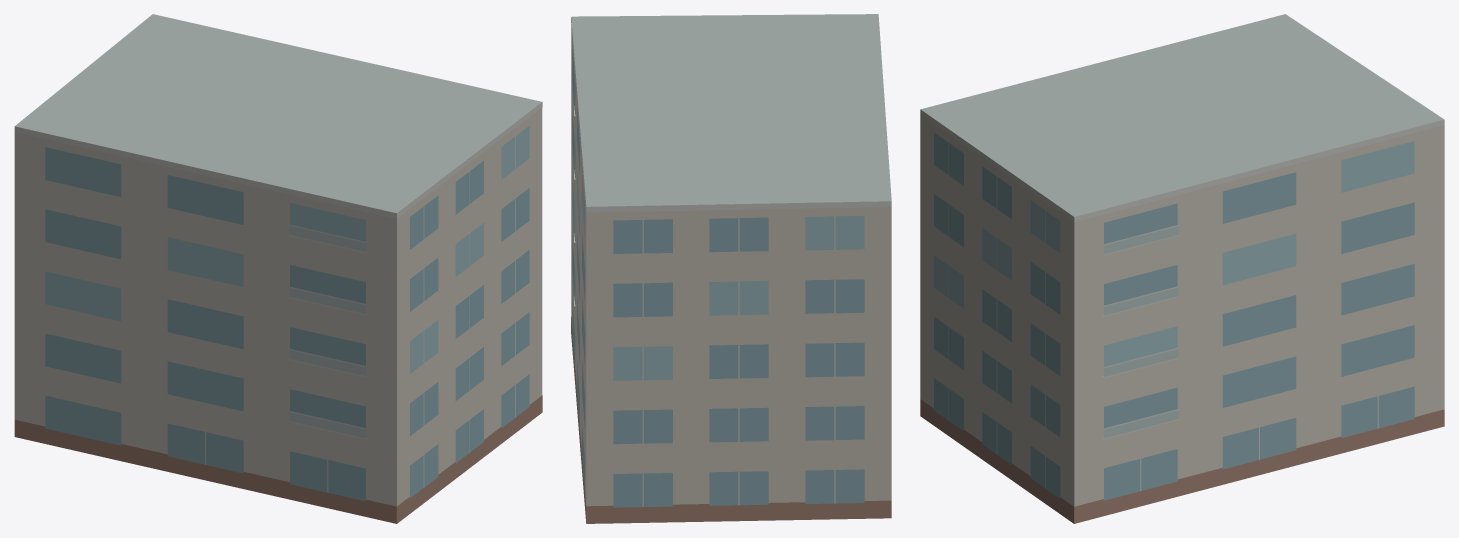
The model's file is survey-upis-33041644.glb.
3 renders of one model, left to right at view 1: azimuth 30°, elevation 25°; view 2: azimuth 150°, elevation 25°; view 3: azimuth 270°, elevation 25°, orthographic. The views are drawn at different scales.
Visible parts, largest first — view 1: survey-upis-33041644.tmp; view 2: survey-upis-33041644.tmp; view 3: survey-upis-33041644.tmp.
Part boxes in pixels (x1=…): survey-upis-33041644.tmp: x1=14, y1=14, x2=542, y2=523; survey-upis-33041644.tmp: x1=571, y1=14, x2=891, y2=523; survey-upis-33041644.tmp: x1=920, y1=14, x2=1444, y2=523.
Bounding box in the file's own units: 19.65 × 13.85 × 21.44.
